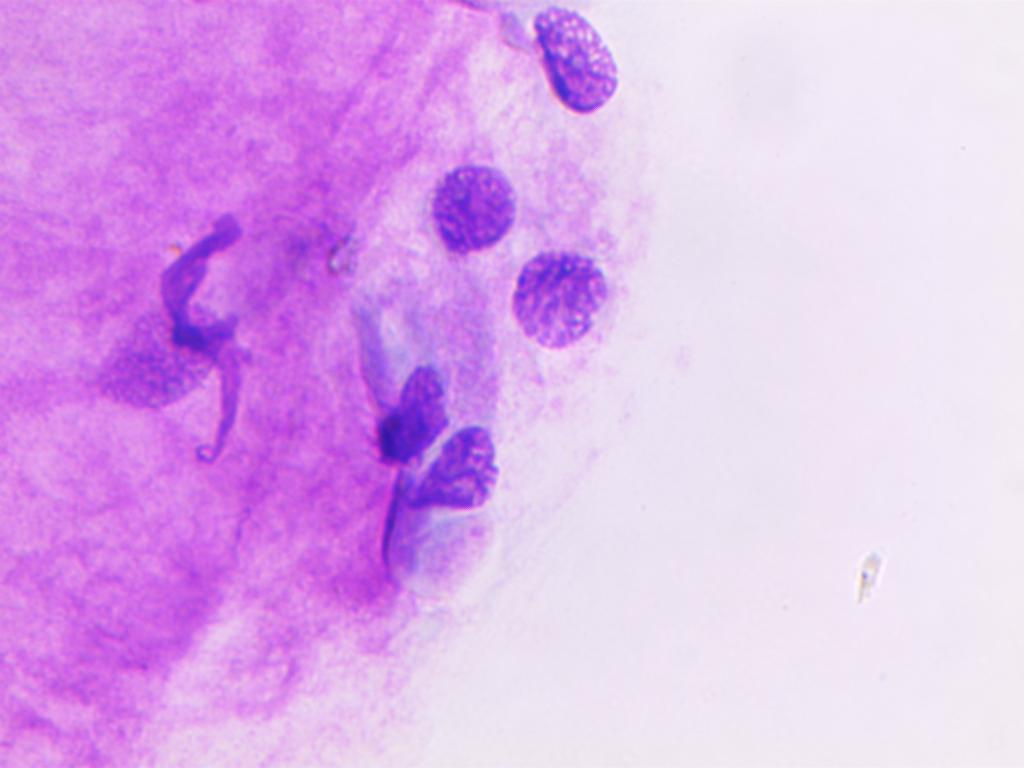artifact: (147, 192, 281, 488), (401, 427, 546, 524), (340, 341, 453, 464)
epithelial: (364, 142, 528, 263), (511, 0, 640, 131), (493, 245, 635, 358), (495, 245, 637, 358)
